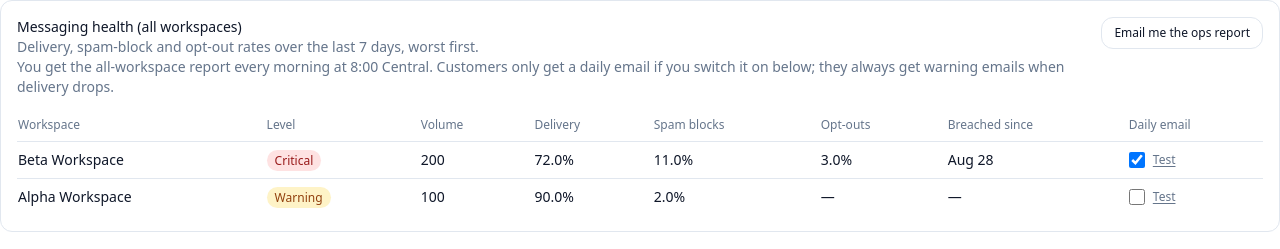
Test: PlatformMessagingHealth › shows the error text when the delivery-digest PUT is forbidden
The image size is (1280, 249).
Expected: the checkbox named "Daily email for Beta Workspace" is checked, [1129,152,1145,168]
Click the checkbox named "Daily email for Alpha Workspace" at coordinates (1137, 197), box [1129,189,1145,205]
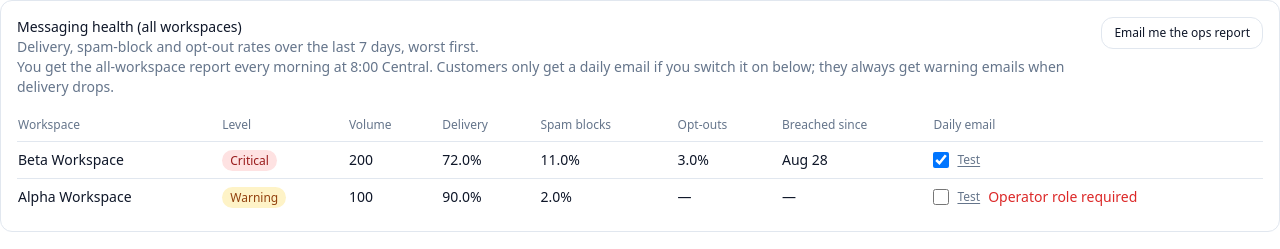
Result: the message reads "Operator role required" at [988,187,1137,206]
